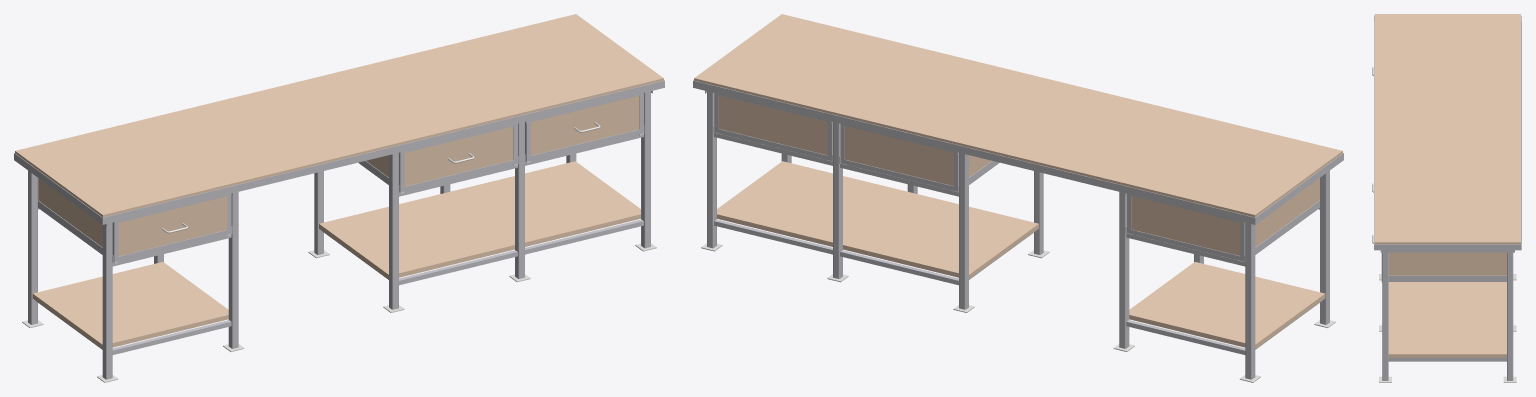
Rendered from table.gltf.
3 views of the same model, side by side, from view 1: azimuth 30°, elevation 25°; view 2: azimuth 150°, elevation 25°; view 3: azimuth 270°, elevation 25° (orthographic). The views are drawn at different scales.
Visible parts, largest first — view 1: Miza lesena, Polica spodaj (×2), Stranica (×3), DIN S 40 x 3 00000022, DIN S 25 x 3 00000004 (×3), DIN 40x40x2.9 00000001, DIN 40x40x2.9 00000006, DIN 40x40x2.9 00000004, Stranica stranska, DIN 40x40x2.9 00000002, DIN 40x40x2.9 00000009, DIN 40x40x2.9 00000008 (+8 smaller); view 2: Miza lesena, Polica spodaj (×2), Stranica (×3), DIN S 40 x 3 00000024, DIN S 25 x 3 00000002 (×3), DIN 40x40x2.9 00000002, DIN 40x40x2.9 00000005, DIN 40x40x2.9 00000003, Stranica stranska, DIN 40x40x2.9 00000001, DIN 40x40x2.9 00000010, DIN 40x40x2.9 00000007 (+9 smaller); view 3: Miza lesena, Polica spodaj, Stranica stranska, DIN S 40 x 3 00000023, DIN 40x40x2.9 00000009, DIN 40x40x2.9 00000010, DIN S 40 x 3 00000021, DIN S 25 x 3 00000011, DIN S 40 x 3 00000030, DIN S 40 x 3 00000024, DIN S 40 x 3 00000022.
Part boxes in pixels (x1,y1,x2,y2): Miza lesena: (15,14,663,217); Polica spodaj (×2): (32,161,640,348); Stranica (×3): (118,95,639,256); DIN S 40 x 3 00000022: (102,80,664,224); DIN S 25 x 3 00000004 (×3): (114,128,643,261); DIN 40x40x2.9 00000001: (102,222,112,379); DIN 40x40x2.9 00000006: (389,152,398,309); DIN 40x40x2.9 00000004: (228,192,238,348); Stranica stranska: (38,178,102,247); DIN 40x40x2.9 00000002: (28,170,37,324); DIN 40x40x2.9 00000009: (641,91,650,248); DIN 40x40x2.9 00000008: (515,122,524,278); Miza lesena: (694,14,1342,217); Polica spodaj (×2): (717,161,1325,348); Stranica (×3): (719,95,1239,255); DIN S 40 x 3 00000024: (693,80,1255,224); DIN S 25 x 3 00000002 (×3): (714,128,1244,261); DIN 40x40x2.9 00000002: (1245,222,1255,379); DIN 40x40x2.9 00000005: (959,152,968,309); DIN 40x40x2.9 00000003: (1119,192,1129,348); Stranica stranska: (1255,178,1319,247); DIN 40x40x2.9 00000001: (1320,170,1329,324); DIN 40x40x2.9 00000010: (707,91,716,248); DIN 40x40x2.9 00000007: (833,122,842,278); Miza lesena: (1374,14,1520,244); Polica spodaj: (1388,282,1506,357); Stranica stranska: (1388,252,1506,275); DIN S 40 x 3 00000023: (1374,244,1521,250); DIN 40x40x2.9 00000009: (1382,252,1388,380); DIN 40x40x2.9 00000010: (1507,252,1513,380); DIN S 40 x 3 00000021: (1388,275,1506,281); DIN S 25 x 3 00000011: (1388,358,1506,361); DIN S 40 x 3 00000030: (1380,250,1514,252); DIN S 40 x 3 00000024: (1521,16,1521,244); DIN S 40 x 3 00000022: (1374,16,1374,244).
Size of the model in its own units: 3.3 by 0.958 by 0.91.
